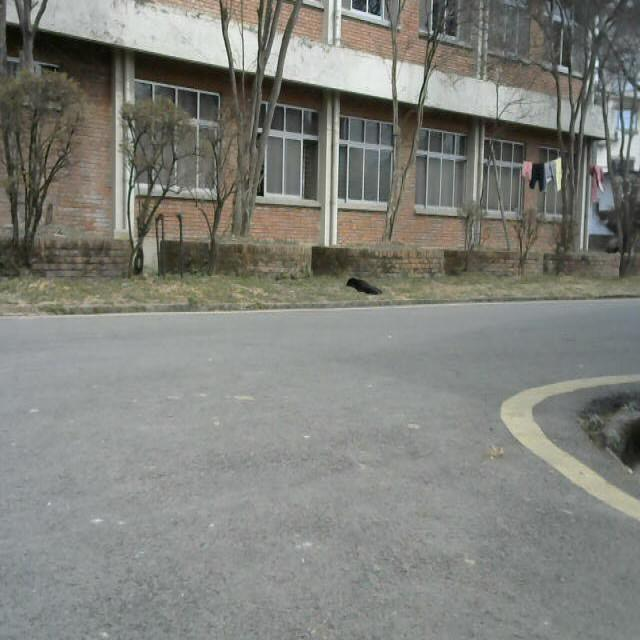Buildings: (3, 4, 603, 270)
Road: (2, 295, 640, 640)
trees: (488, 0, 640, 273), (216, 0, 301, 223), (386, 3, 444, 262), (0, 76, 76, 268), (119, 92, 185, 280)
